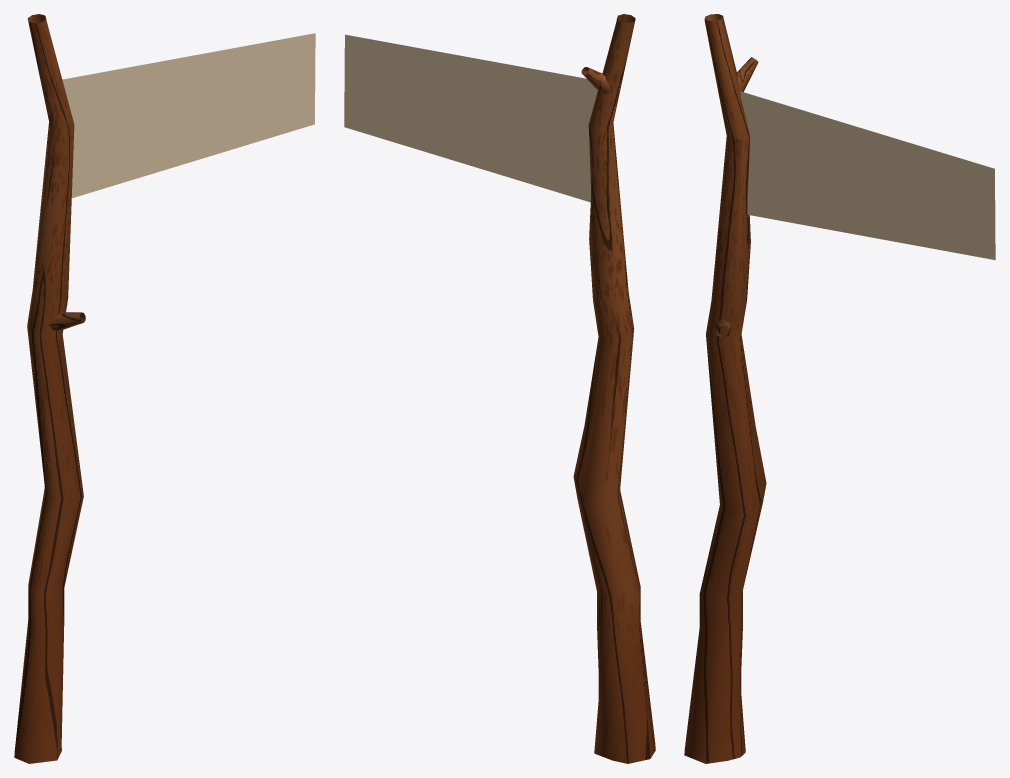
Rendered from flag.fbx.
The picture shows the model from 3 angles, left to right: view 1: azimuth 30°, elevation 25°; view 2: azimuth 150°, elevation 25°; view 3: azimuth 330°, elevation 25°; orthographic projection.
Parts seen in each view (by area): view 1: pCylinder1, pPlane2; view 2: pCylinder1, pPlane2; view 3: pCylinder1, pPlane2.
Part boxes in pixels (x1,y1,x2,y2): pCylinder1: (14,14,85,763); pPlane2: (62,33,315,198); pCylinder1: (573,14,655,763); pPlane2: (344,34,597,202); pCylinder1: (684,14,766,763); pPlane2: (740,91,995,260).
Bounding box in the file's own units: 49.79 × 115 × 10.42.
